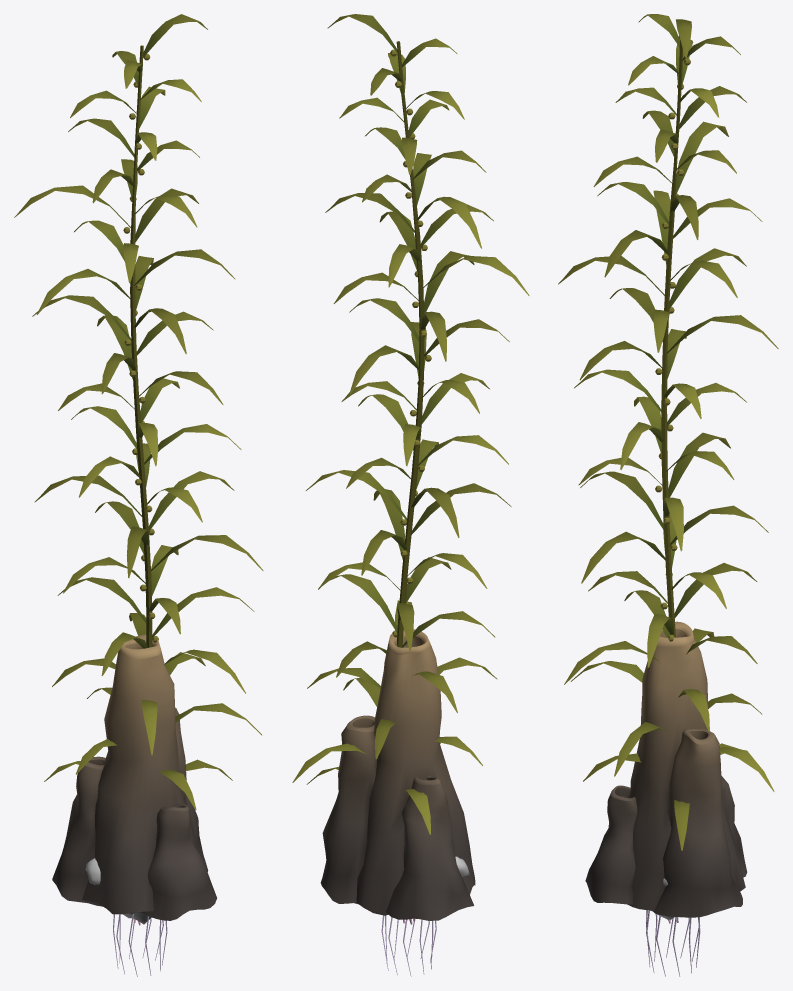
Rendered from nature.glb.
The picture shows the model from 3 angles, left to right: view 1: azimuth 30°, elevation 25°; view 2: azimuth 150°, elevation 25°; view 3: azimuth 270°, elevation 25°; orthographic projection. The views are drawn at different scales.
Parts seen in each view (by area): view 1: kelp, chimney, jelly; view 2: chimney, kelp, jelly; view 3: kelp, chimney, jelly.
Part boxes in pixels (x1=…): kelp: x1=14, y1=14, x2=263, y2=810; chimney: x1=52, y1=634, x2=216, y2=920; jelly: x1=113, y1=913, x2=167, y2=976; chimney: x1=320, y1=629, x2=475, y2=920; kelp: x1=292, y1=14, x2=529, y2=834; jelly: x1=381, y1=915, x2=436, y2=976; kelp: x1=558, y1=14, x2=778, y2=850; chimney: x1=585, y1=621, x2=747, y2=917; jelly: x1=646, y1=910, x2=700, y2=976.
Bounding box in the file's own units: 5.51 × 23.04 × 4.75.
